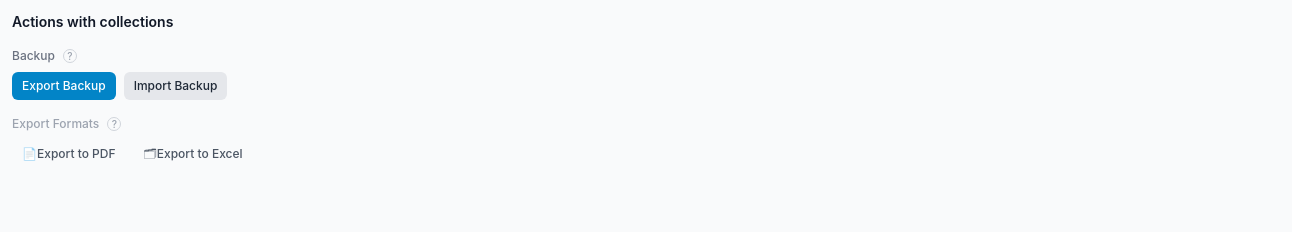
Scenario: BackupSection › displays default error fallback when import preview fails with empty message
Click the button "Import Backup".
click(176, 86)  # box [124,72,227,100]
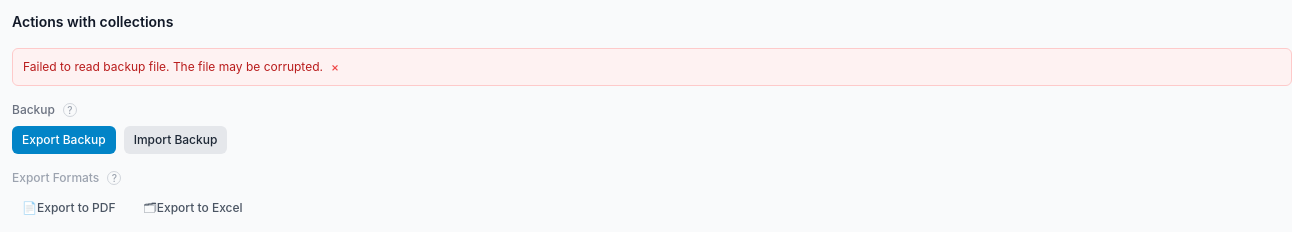
Check: the message shows "Failed to read backup file", box [23,59,323,74]
